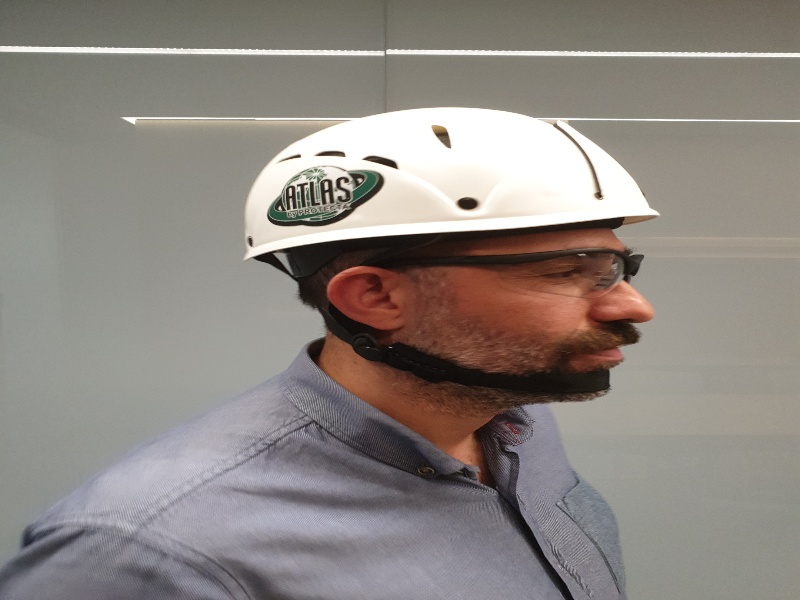Baret: (243, 106, 662, 239)
Gozluk: (391, 245, 644, 297)
